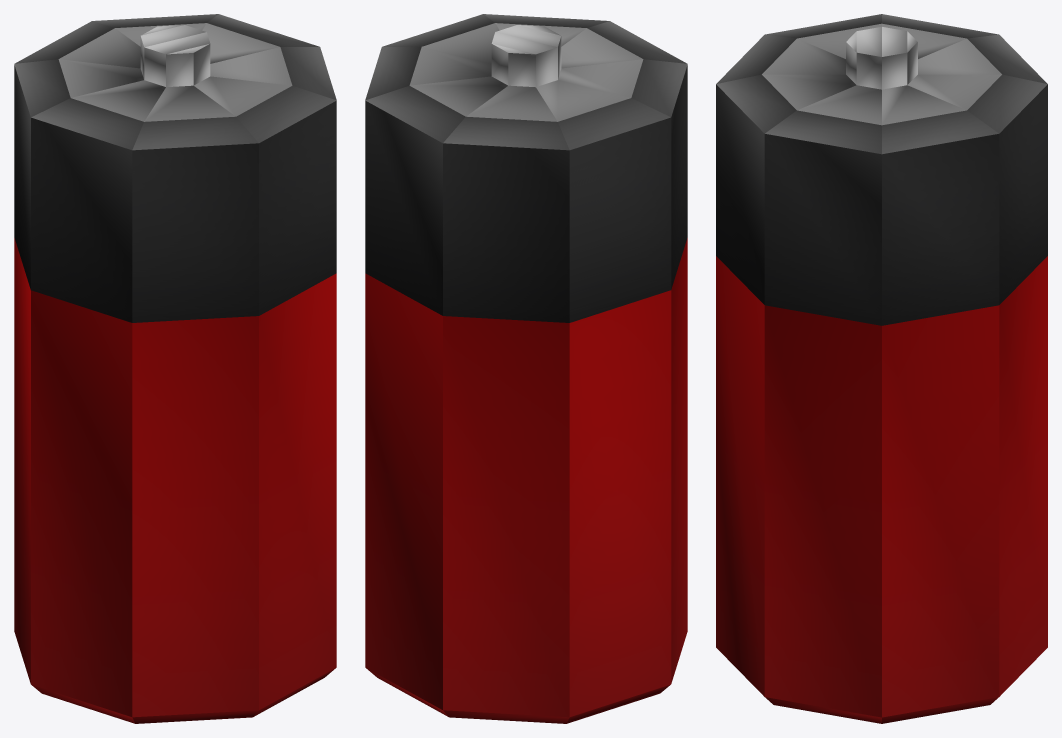
The model's file is battery.fbx.
3 renders of one model, left to right at view 1: azimuth 30°, elevation 25°; view 2: azimuth 150°, elevation 25°; view 3: azimuth 270°, elevation 25°, orthographic.
Visible parts, largest first — view 1: 65; view 2: 65; view 3: 65.
Boxes of the visible parts, x1=… form: 65: x1=14, y1=14, x2=336, y2=723; 65: x1=365, y1=14, x2=687, y2=723; 65: x1=716, y1=14, x2=1047, y2=723.
Size of the model in its own units: 7.16 by 14.69 by 7.16.
